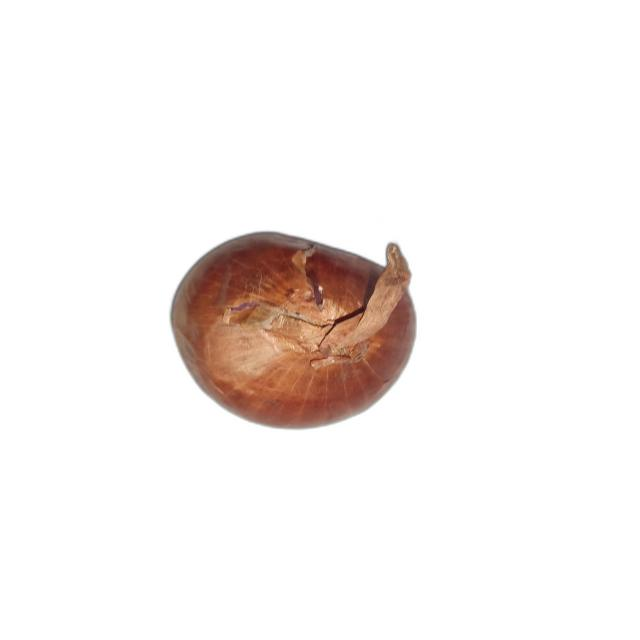onion: (170, 231, 419, 434)
